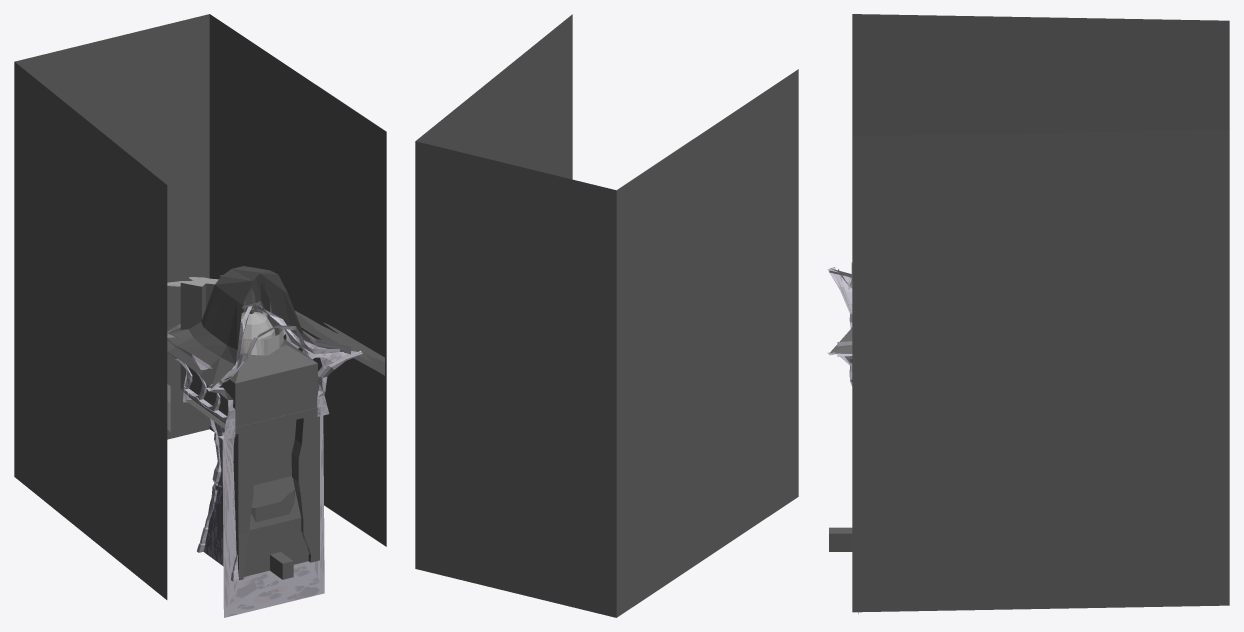
File: jin_04_bake.dae
3 renders of one model, left to right at view 1: azimuth 30°, elevation 25°; view 2: azimuth 150°, elevation 25°; view 3: azimuth 270°, elevation 25°, orthographic. The views are drawn at different scales.
Visible parts, largest first — view 1: pCube5_q00017, S_f2_yane, a_f2_hon, a_gawa01, S_msk, polySurface126_q00004, polySurface125_q00003, polySurface12_q00053, a_kagu01, pPlane3_q00019, polySurface2_q00055, S_f2_hasi (+5 smaller); view 2: pCube5_q00017; view 3: pCube5_q00017, a_bero_1.
Part boxes in pixels (bbox=[...]): pCube5_q00017: bbox=[14, 14, 386, 599]; S_f2_yane: bbox=[167, 266, 360, 388]; a_f2_hon: bbox=[188, 339, 317, 427]; a_gawa01: bbox=[215, 420, 308, 576]; S_msk: bbox=[222, 415, 324, 617]; polySurface126_q00004: bbox=[291, 415, 319, 562]; polySurface125_q00003: bbox=[233, 431, 253, 580]; polySurface12_q00053: bbox=[167, 301, 353, 388]; a_kagu01: bbox=[180, 266, 272, 389]; pPlane3_q00019: bbox=[167, 277, 384, 375]; polySurface2_q00055: bbox=[167, 350, 362, 439]; S_f2_hasi: bbox=[175, 329, 361, 422]; pCube5_q00017: bbox=[415, 14, 798, 617]; pCube5_q00017: bbox=[852, 14, 1229, 612]; a_bero_1: bbox=[829, 527, 852, 551].
Bounding box in the file's own units: 100 × 196 × 139.
